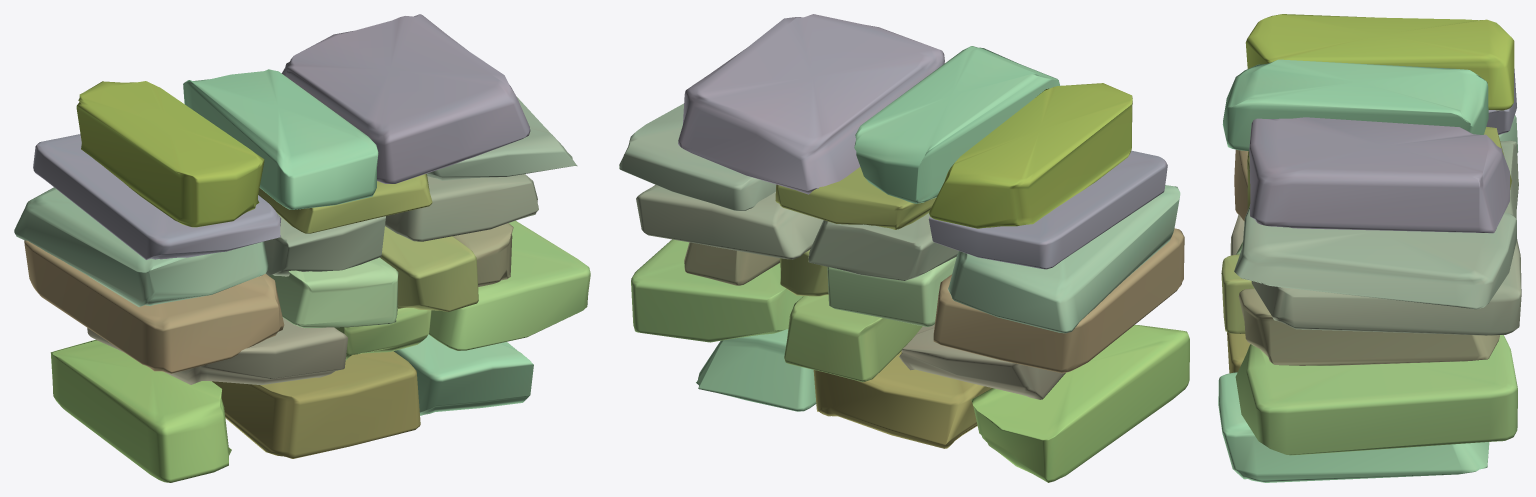
Rendered from SM_Scar_A.glb.
The picture shows the model from 3 angles, left to right: view 1: azimuth 30°, elevation 25°; view 2: azimuth 150°, elevation 25°; view 3: azimuth 270°, elevation 25°; orthographic projection.
Visible parts, largest first — view 1: SM_Scar_A; view 2: SM_Scar_A; view 3: SM_Scar_A.
Part boxes in pixels (x1,y1,x2,y2): SM_Scar_A: (14,14,590,482); SM_Scar_A: (619,14,1189,482); SM_Scar_A: (1218,14,1521,482).
Bounding box in the file's own units: 6.13 × 3.88 × 3.4.
